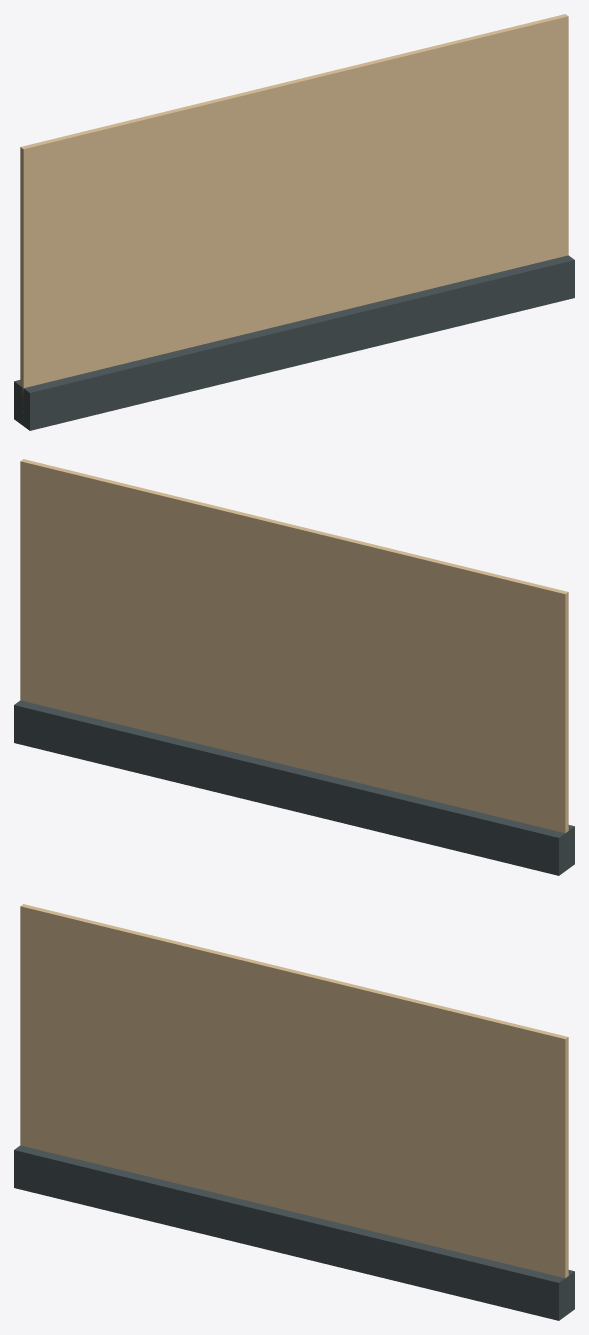
Rendered from Wall_08.fbx.
The picture shows the model from 3 angles, top to bottom: view 1: azimuth 30°, elevation 25°; view 2: azimuth 150°, elevation 25°; view 3: azimuth 330°, elevation 25°; orthographic projection.
Parts seen in each view (by area): view 1: Wall_08; view 2: Wall_08; view 3: Wall_08.
Part boxes in pixels (left/top/right/bottom): Wall_08: left=14, top=14, right=574, bottom=430; Wall_08: left=14, top=459, right=574, bottom=875; Wall_08: left=14, top=904, right=574, bottom=1320.
Bounding box in the file's own units: 575 × 279 × 29.21.
